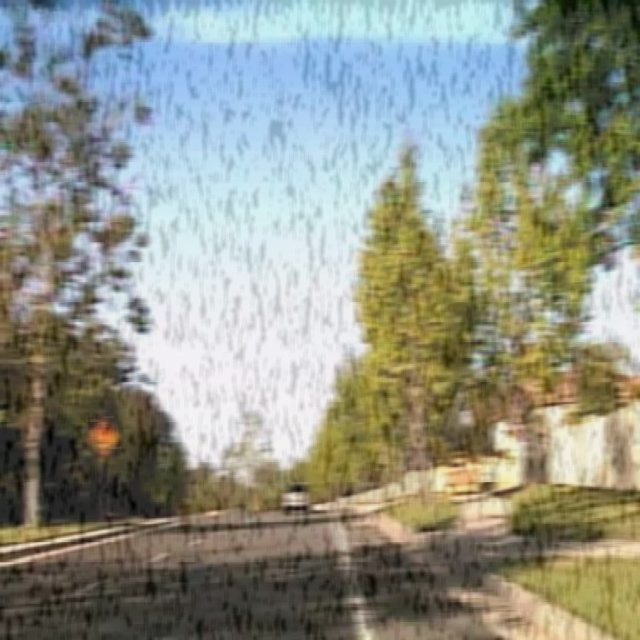signalAhead: (89, 416, 118, 458)
